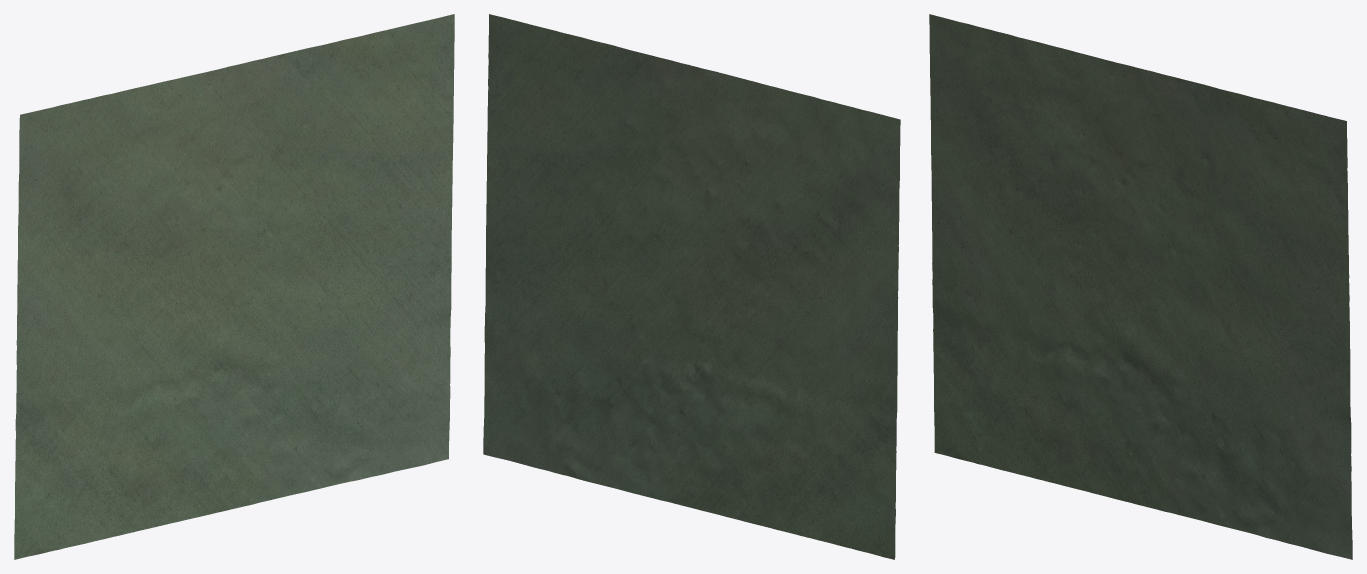
Rendered from Tile_+015_+006.fbx.
3 views of the same model, side by side, from view 1: azimuth 30°, elevation 25°; view 2: azimuth 150°, elevation 25°; view 3: azimuth 330°, elevation 25° (orthographic). The views are drawn at different scales.
Visible parts, largest first — view 1: DefaultName; view 2: DefaultName; view 3: DefaultName.
Part boxes in pixels (bbox=[...]): DefaultName: bbox=[14, 14, 454, 559]; DefaultName: bbox=[483, 14, 900, 559]; DefaultName: bbox=[929, 14, 1352, 559].
Bounding box in the file's own units: 22.54 × 22.54 × 1.02.
